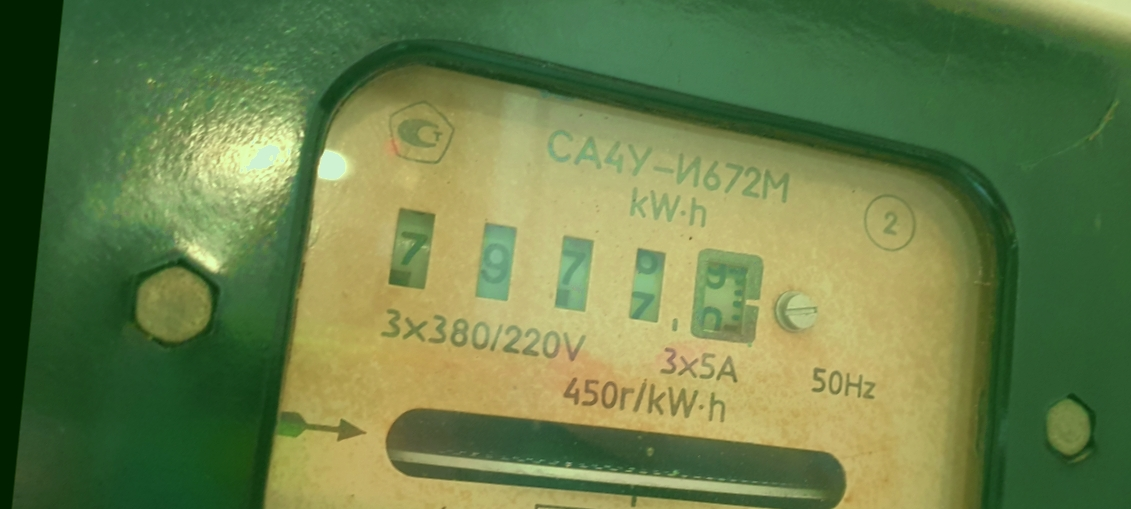0: (696, 299, 722, 331)
7: (390, 223, 428, 271), (624, 279, 658, 324), (555, 244, 588, 287)
9: (475, 236, 511, 286), (699, 256, 732, 291)
screen: (369, 192, 781, 358)
